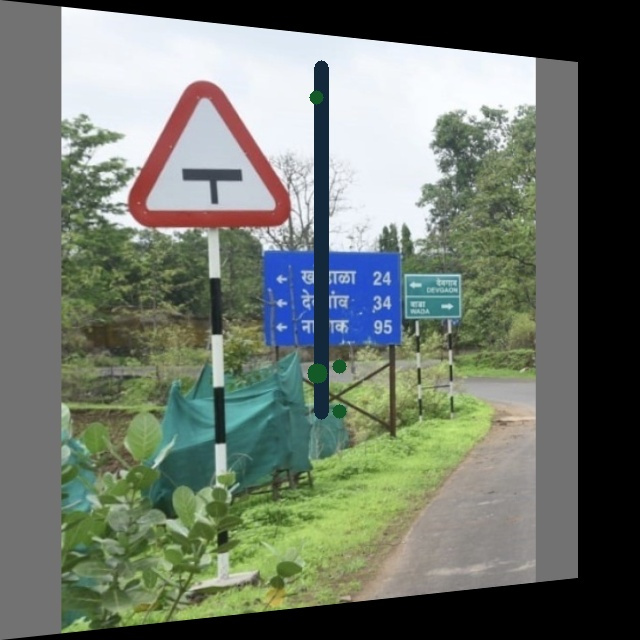T_Intersection: (127, 79, 295, 228)
